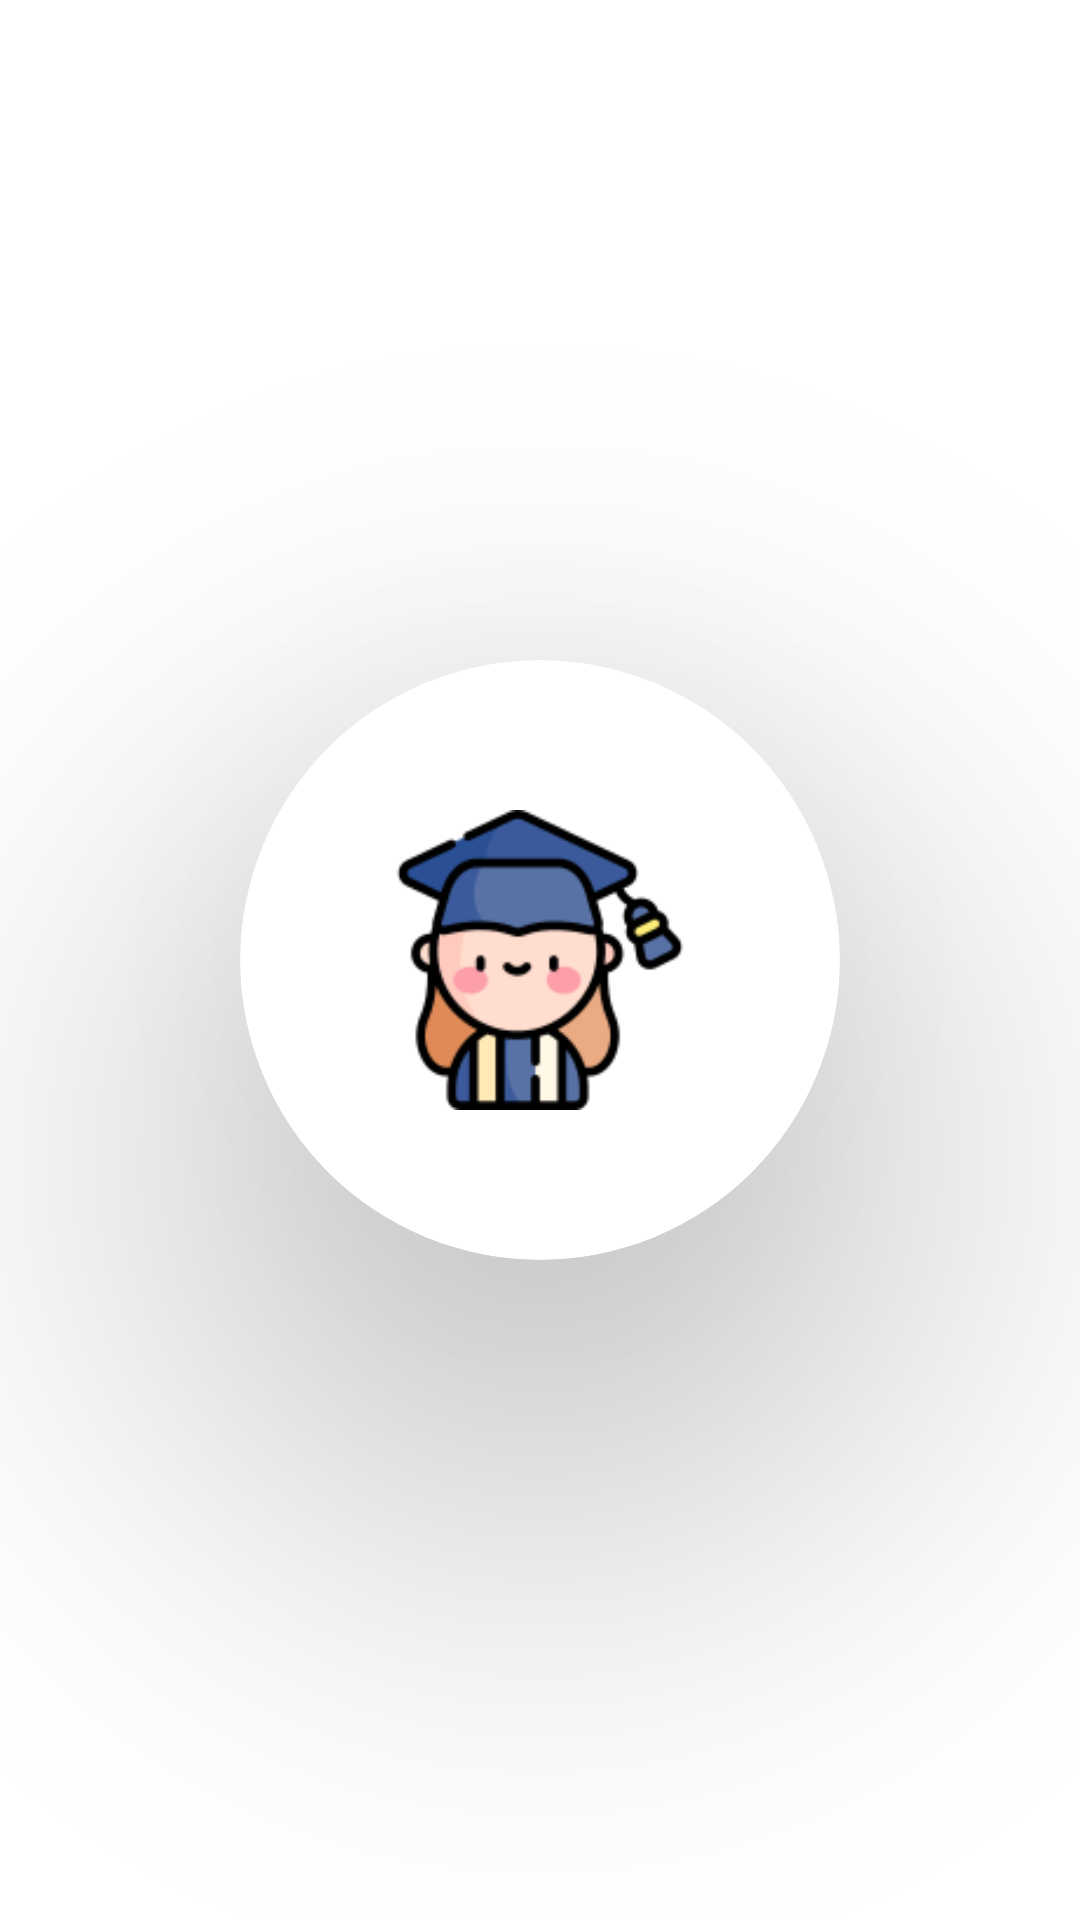

Icons on this 1080 x 1920 Android screen, each with its box as (x1, y1, x2, y2):
coaching: (397, 810, 683, 1110)
